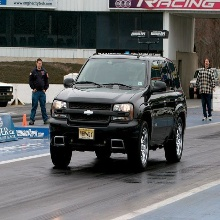no damage: (49, 54, 188, 171)
